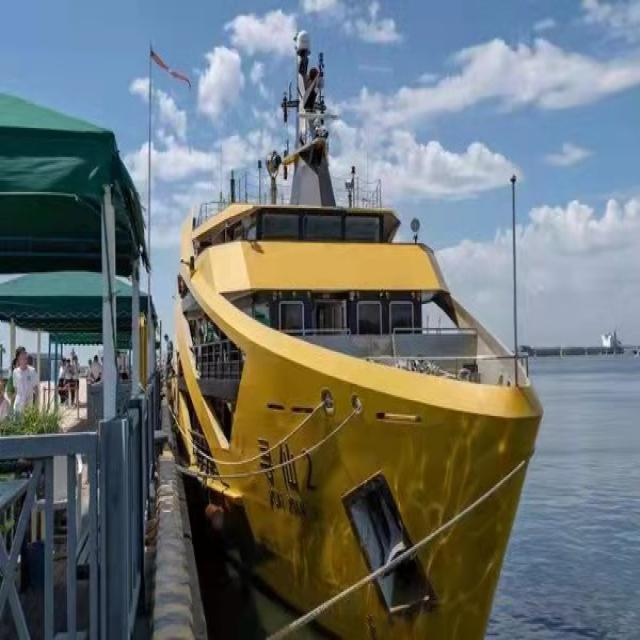passenger ship: (170, 129, 534, 640)
